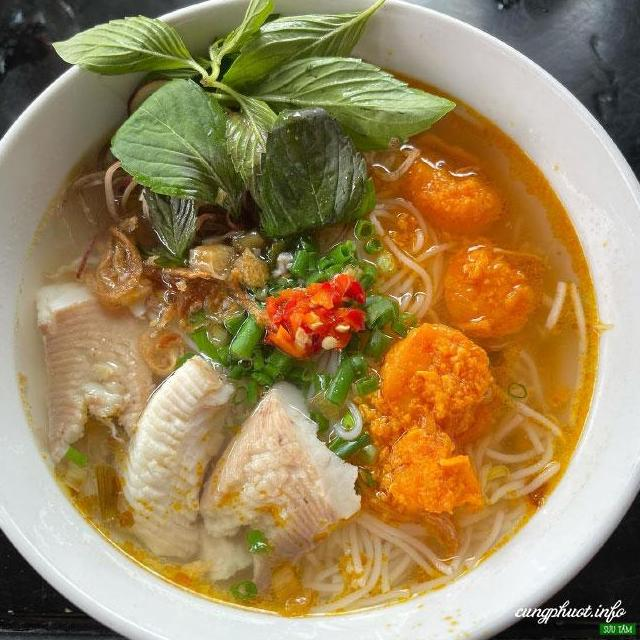bun: (458, 275, 600, 512), (299, 488, 556, 612), (341, 201, 446, 325)
bun ca: (0, 62, 620, 640)
ca: (201, 366, 371, 580), (101, 337, 263, 560), (26, 272, 154, 470)
tom: (358, 318, 513, 462), (357, 399, 490, 528), (440, 226, 545, 360), (399, 146, 511, 239)
